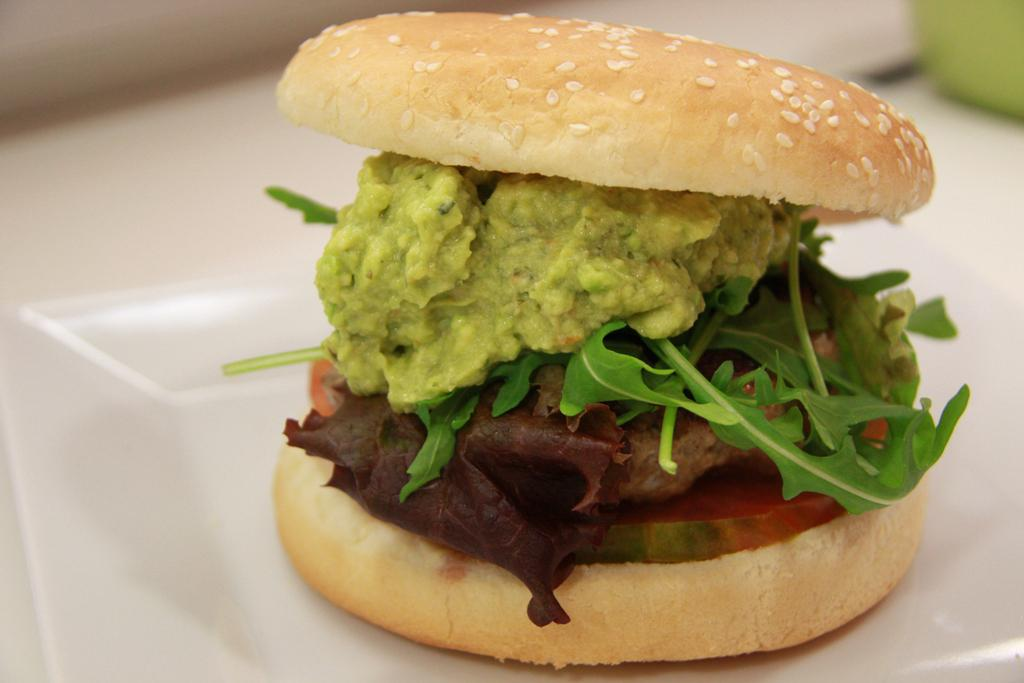Hamburger: (222, 10, 970, 667)
